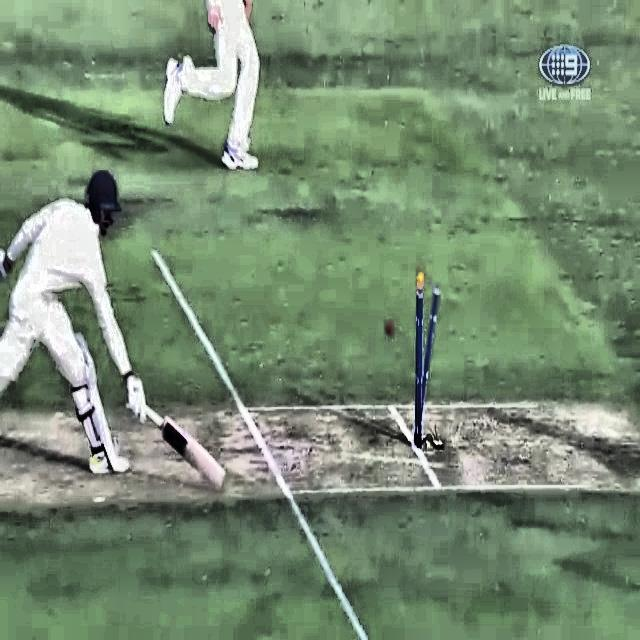Ball: (379, 315, 400, 341)
Bat: (122, 391, 234, 492)
Dis_Wicket: (409, 265, 446, 447)
Pitch_Line: (150, 245, 367, 640)
